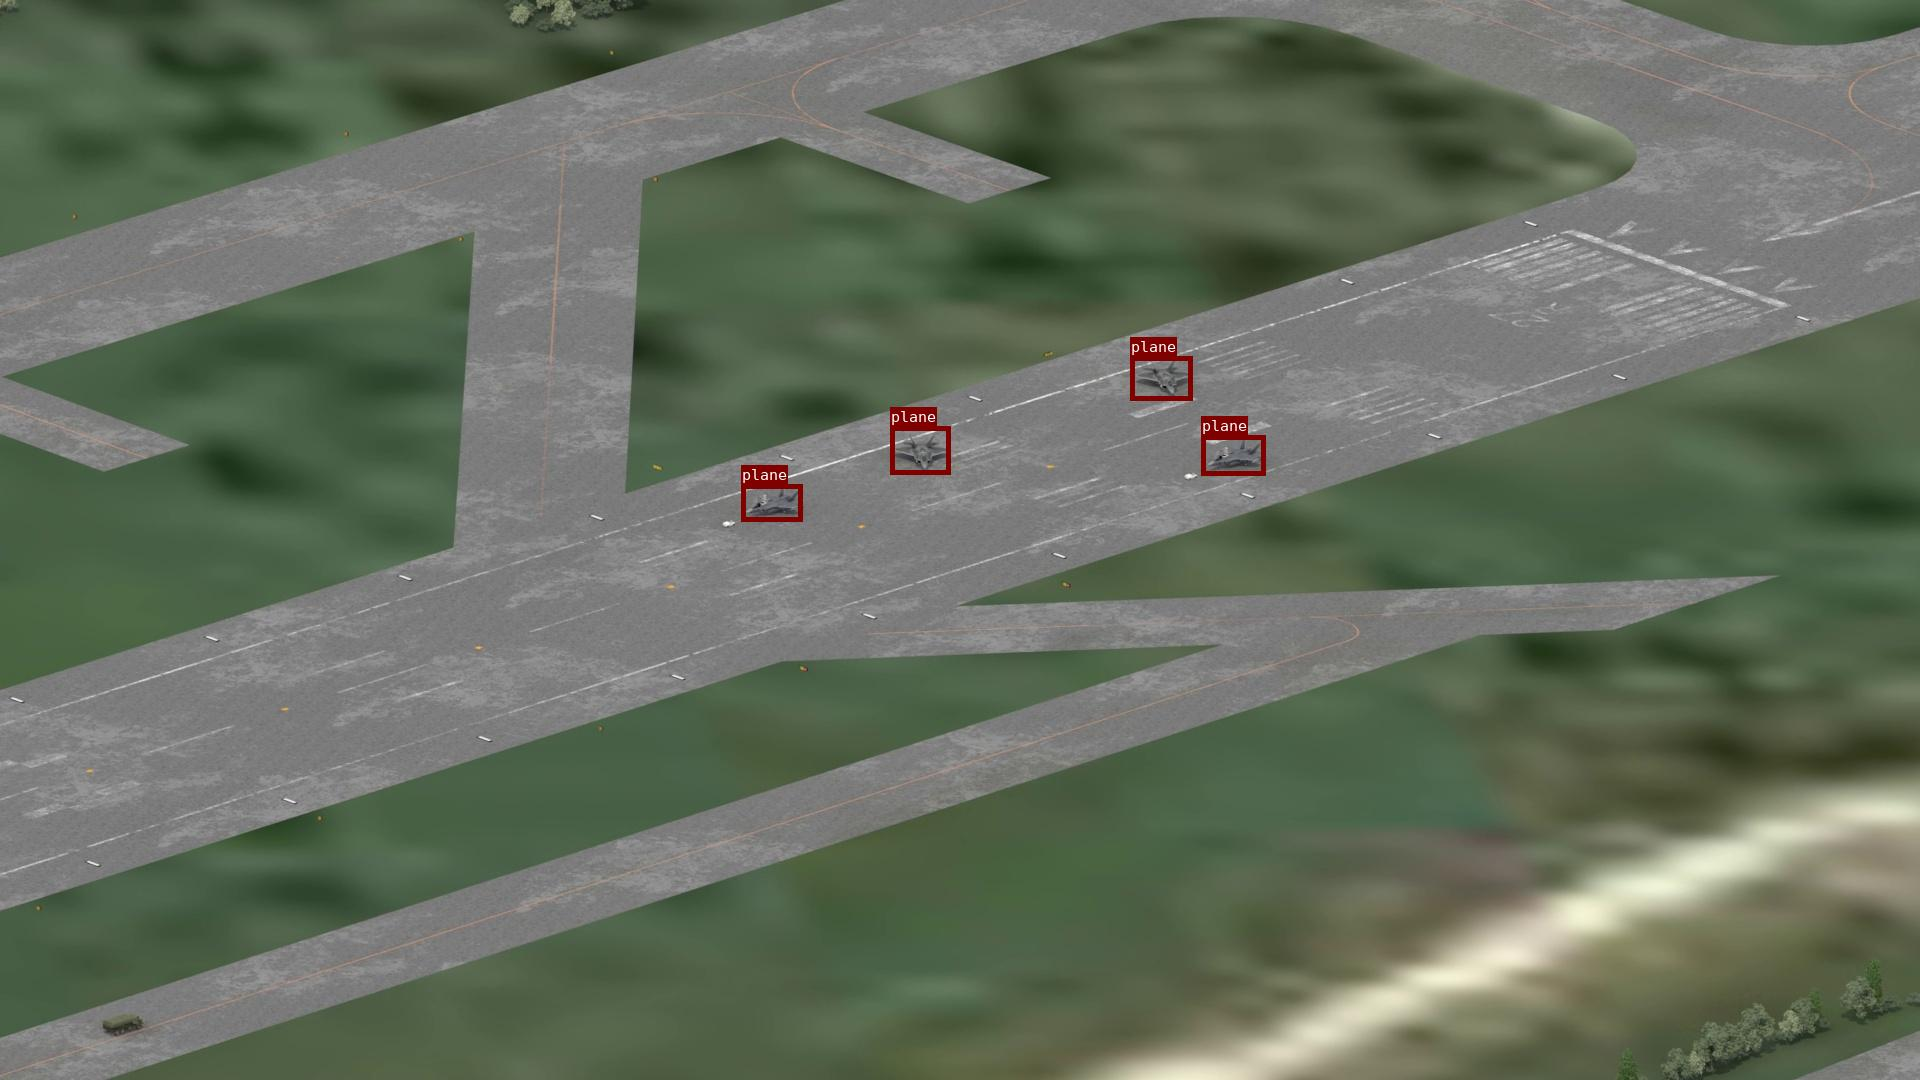plane: (890, 426, 949, 473), (1130, 356, 1192, 400), (1201, 435, 1265, 475), (741, 484, 802, 521)
